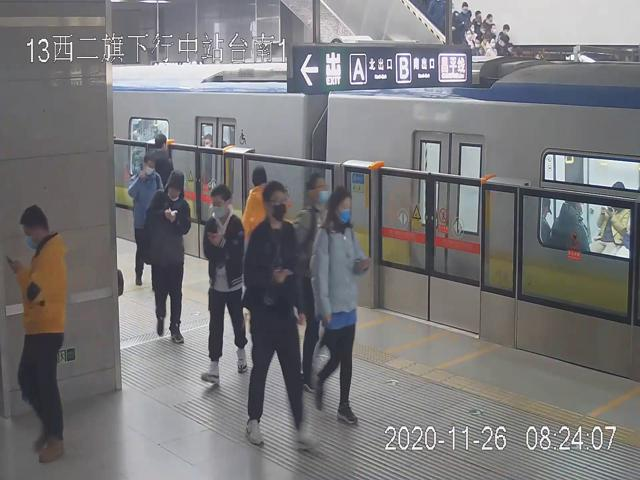person: (244, 181, 321, 452), (13, 204, 69, 464), (310, 185, 365, 426), (201, 185, 246, 384), (144, 169, 190, 342)
